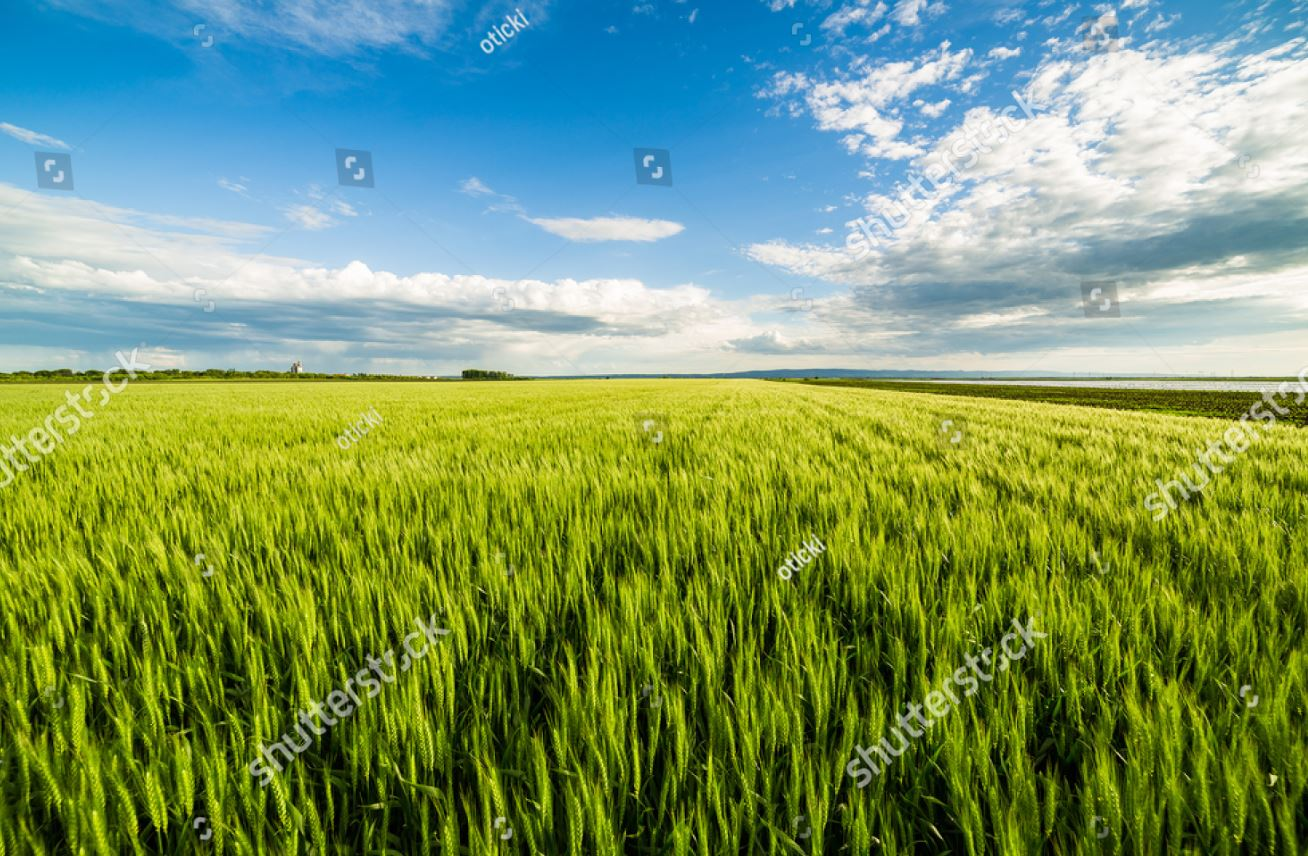Wheat: (452, 487, 752, 787)
